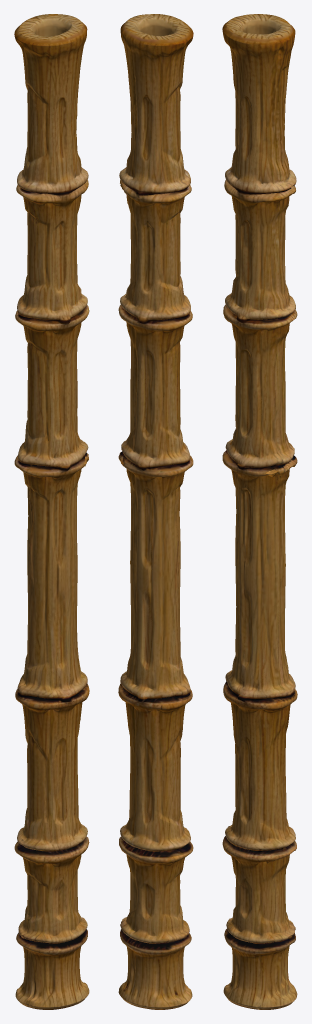
The model's file is qiong-bamboo-raw.glb.
3 views of the same model, side by side, from view 1: azimuth 30°, elevation 25°; view 2: azimuth 150°, elevation 25°; view 3: azimuth 330°, elevation 25° (orthographic).
Visible parts, largest first — view 1: tripo_node_f6942558-b7ee-480f-9f77-b32467a9972b; view 2: tripo_node_f6942558-b7ee-480f-9f77-b32467a9972b; view 3: tripo_node_f6942558-b7ee-480f-9f77-b32467a9972b.
Part boxes in pixels (x1,y1,x2,y2): tripo_node_f6942558-b7ee-480f-9f77-b32467a9972b: (14,14,89,1009); tripo_node_f6942558-b7ee-480f-9f77-b32467a9972b: (118,14,193,1009); tripo_node_f6942558-b7ee-480f-9f77-b32467a9972b: (222,14,297,1009).
Bounding box in the file's own units: 0.0716 × 0.9801 × 0.0639.
Materials: 1 (1 with a texture image).
